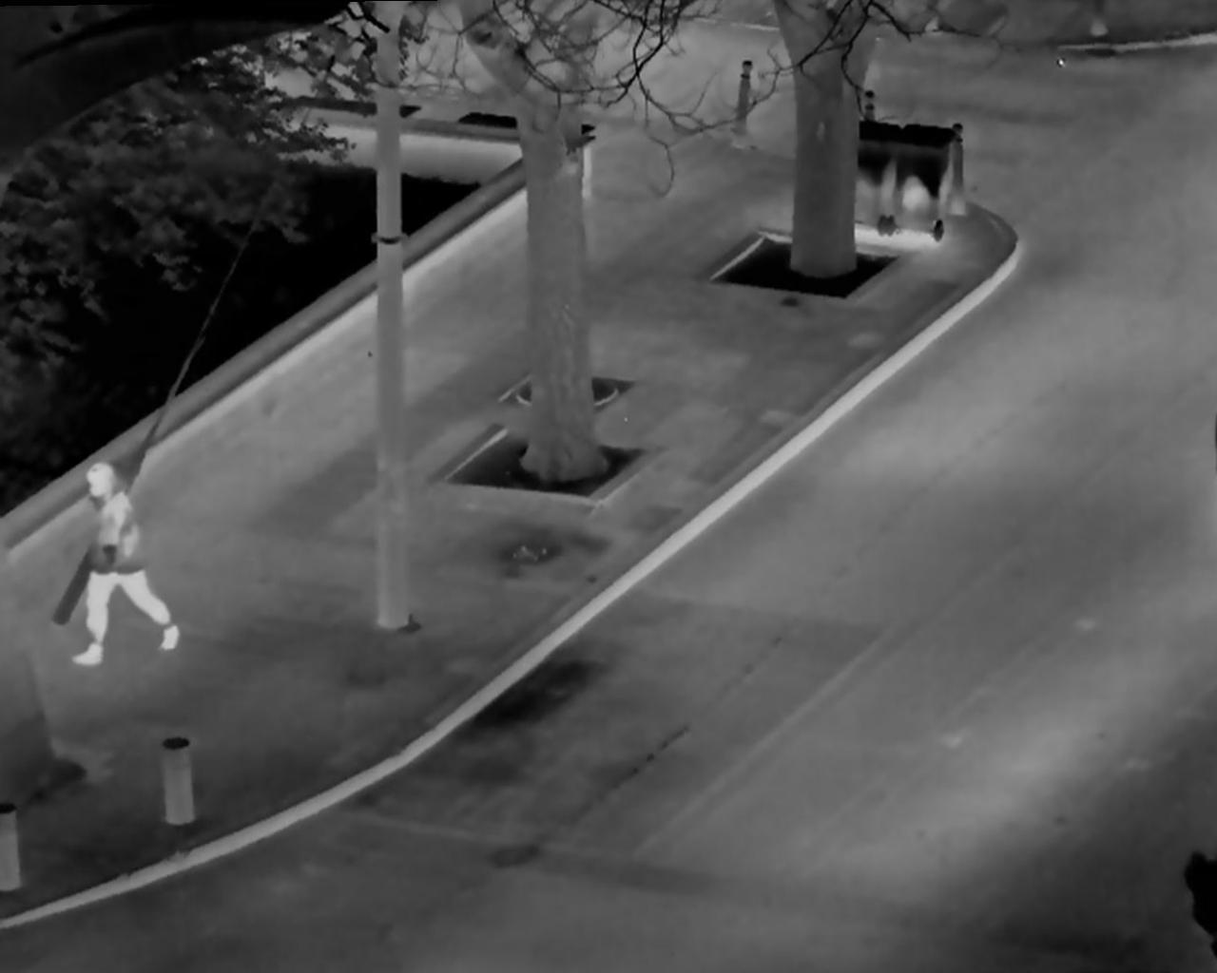person: (69, 460, 184, 667)
